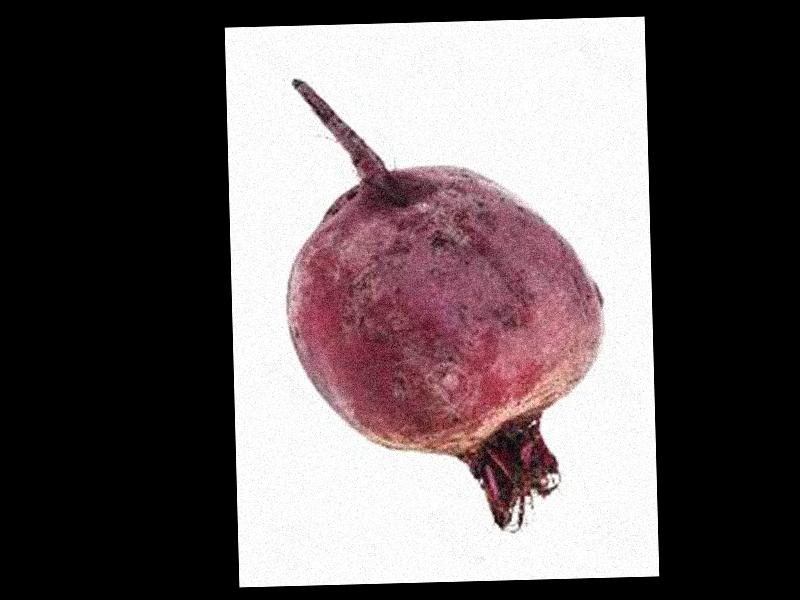Beet: (282, 76, 605, 534)
